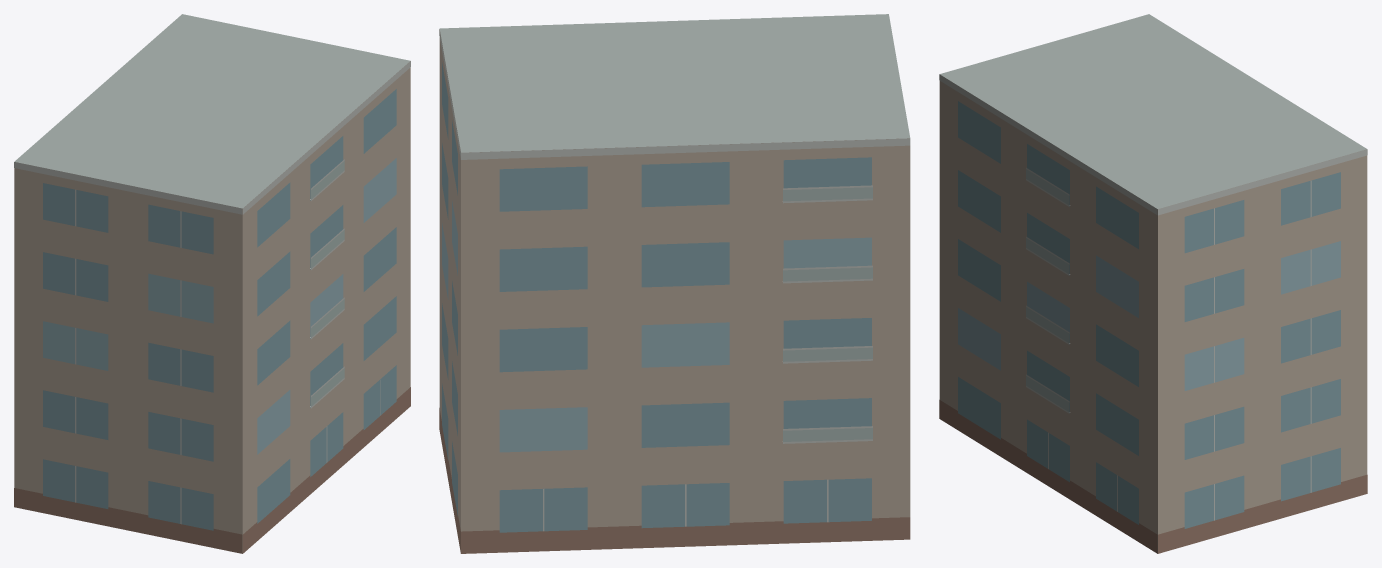
Rendered from survey-upis-32883376.glb.
3 views of the same model, side by side, from view 1: azimuth 30°, elevation 25°; view 2: azimuth 150°, elevation 25°; view 3: azimuth 270°, elevation 25° (orthographic). The views are drawn at different scales.
Visible parts, largest first — view 1: survey-upis-32883376.tmp; view 2: survey-upis-32883376.tmp; view 3: survey-upis-32883376.tmp.
Boxes of the visible parts, bbox=[...] form: survey-upis-32883376.tmp: bbox=[14, 14, 410, 553]; survey-upis-32883376.tmp: bbox=[439, 14, 910, 553]; survey-upis-32883376.tmp: bbox=[939, 14, 1367, 553].
Bounding box in the file's own units: 16.29 × 13.4 × 15.09.
